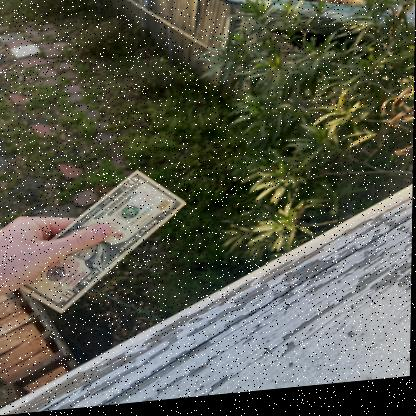ten-front: (7, 173, 188, 315)
